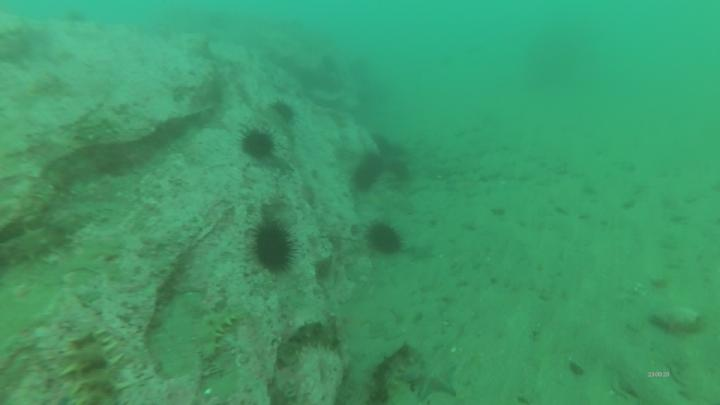echinus: (256, 221, 291, 275), (243, 129, 274, 156), (370, 226, 399, 254), (355, 167, 372, 191), (365, 152, 382, 173), (277, 101, 293, 119)
holothurian: (68, 336, 125, 405), (367, 345, 420, 402), (277, 322, 336, 367), (205, 304, 242, 363)
starfish: (402, 354, 459, 399)
